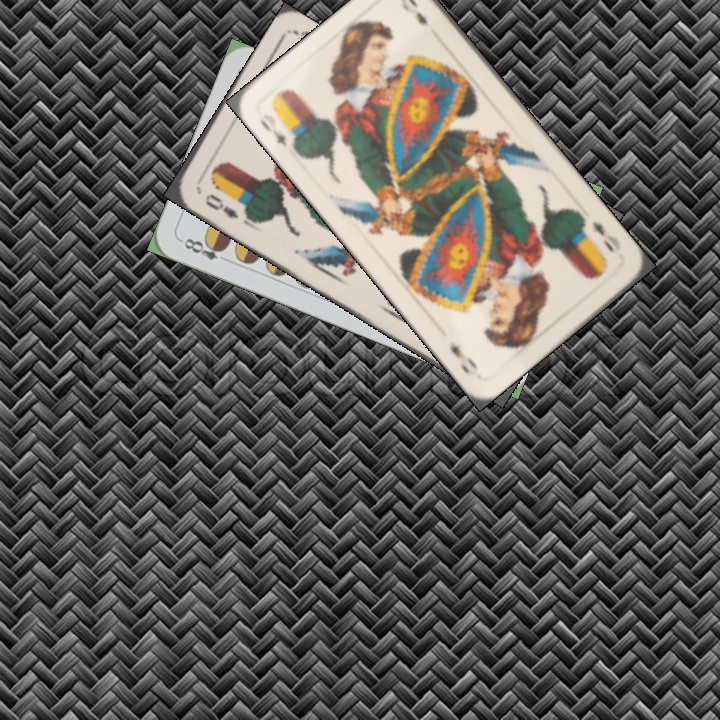E8: (179, 234, 233, 265)
EO: (256, 115, 299, 153), (200, 189, 241, 222), (587, 216, 617, 255)
